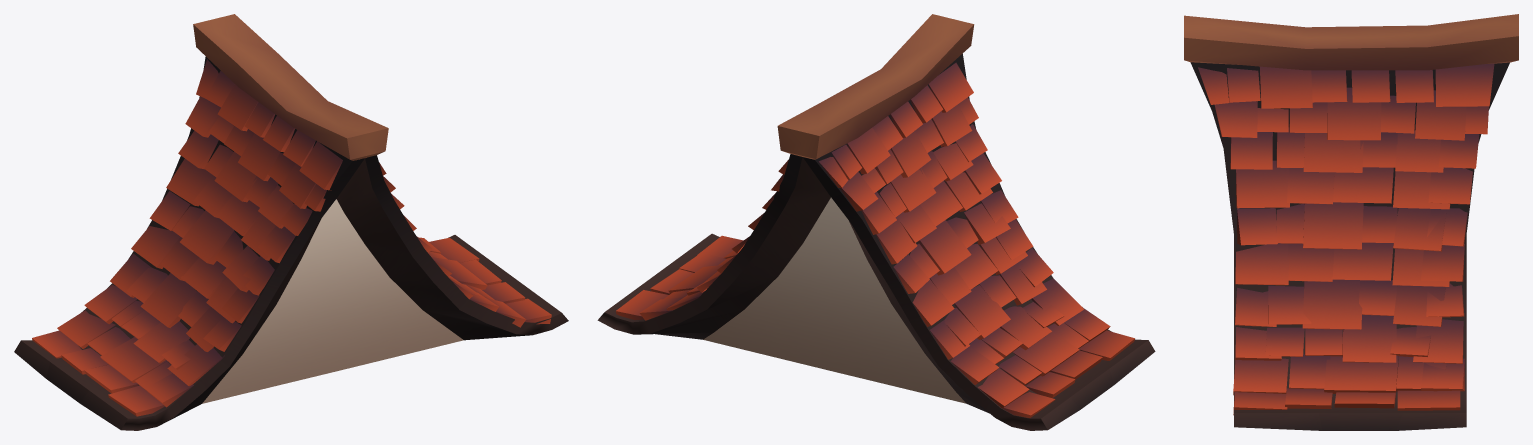
File: RoofB02.fbx
The picture shows the model from 3 angles, left to right: view 1: azimuth 30°, elevation 25°; view 2: azimuth 150°, elevation 25°; view 3: azimuth 270°, elevation 25°; orthographic projection. The views are drawn at different scales.
Parts seen in each view (by area): view 1: RoofB02; view 2: RoofB02; view 3: RoofB02.
Part boxes in pixels (x1,y1,x2,y2): RoofB02: (14,14,568,430); RoofB02: (597,14,1155,430); RoofB02: (1184,14,1518,430).
Size of the model in its own units: 1039 by 599 by 619.
Materials: 1 (1 with a texture image).
